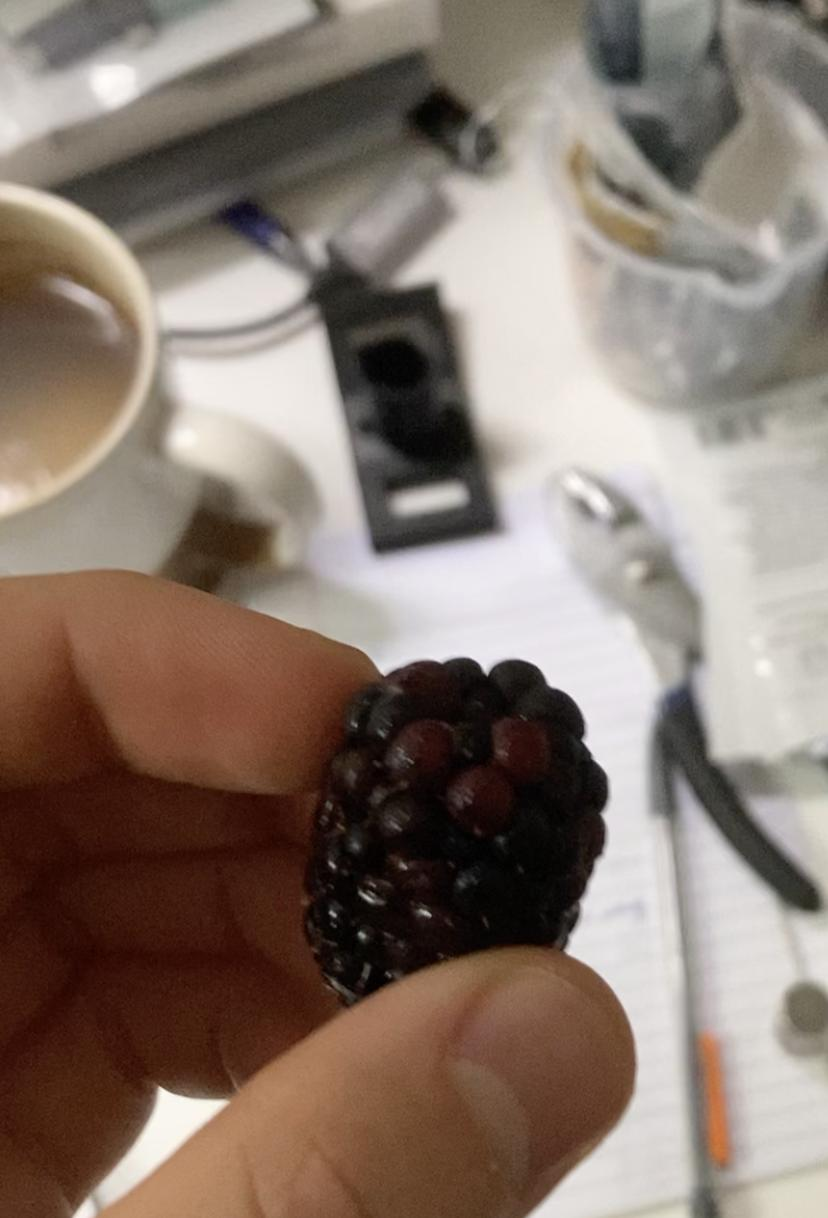berry: (304, 659, 608, 1005)
red drouplet: (443, 762, 514, 835), (385, 721, 451, 784), (493, 716, 549, 786)
